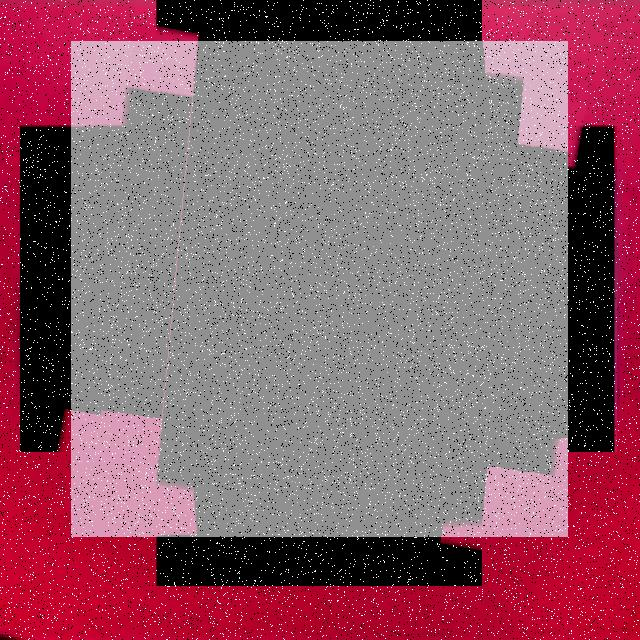dua ribu rupiah: (71, 41, 568, 537)
